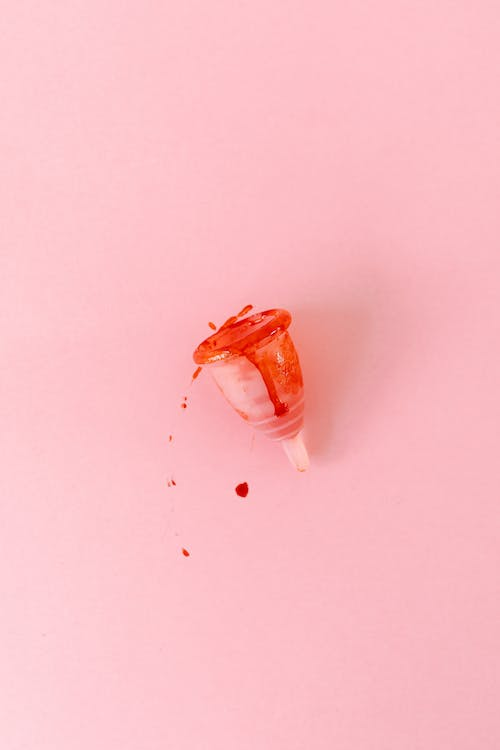blood: (161, 300, 257, 562), (191, 304, 307, 442)
